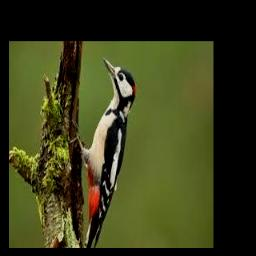Woodpecker: (68, 57, 135, 248)
